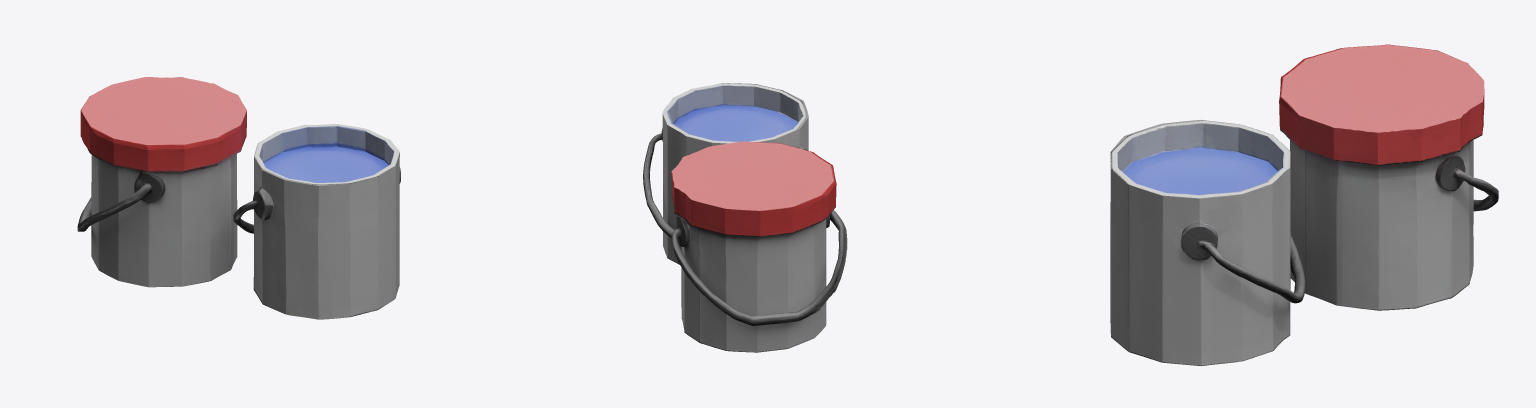
File: nano3d.glb
3 views of the same model, side by side, from view 1: azimuth 30°, elevation 25°; view 2: azimuth 150°, elevation 25°; view 3: azimuth 270°, elevation 25° (orthographic). The views are drawn at different scales.
Parts seen in each view (by area): view 1: world; view 2: world; view 3: world.
Boxes of the visible parts, box(x1,y1,x2,y2) form: world: box(77, 77, 400, 319); world: box(643, 83, 847, 352); world: box(1110, 44, 1498, 366).
Bounding box in the file's own units: 0.8736 × 0.5052 × 1.09.
Materials: 2 (1 with a texture image).
